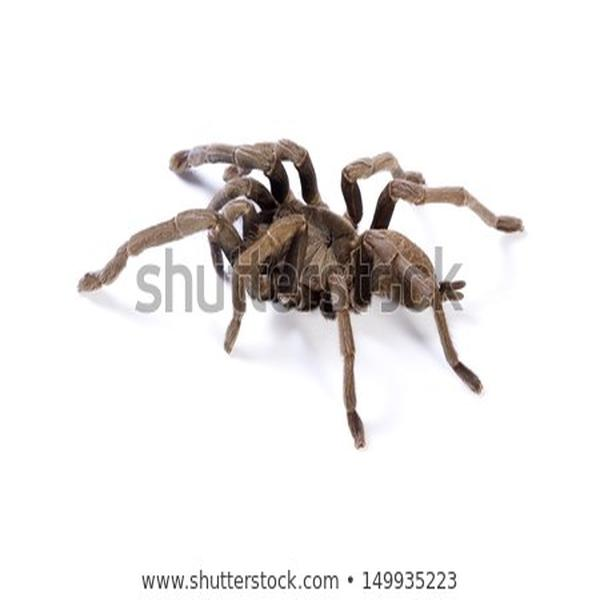Tarantula Spider: (79, 138, 526, 439)
